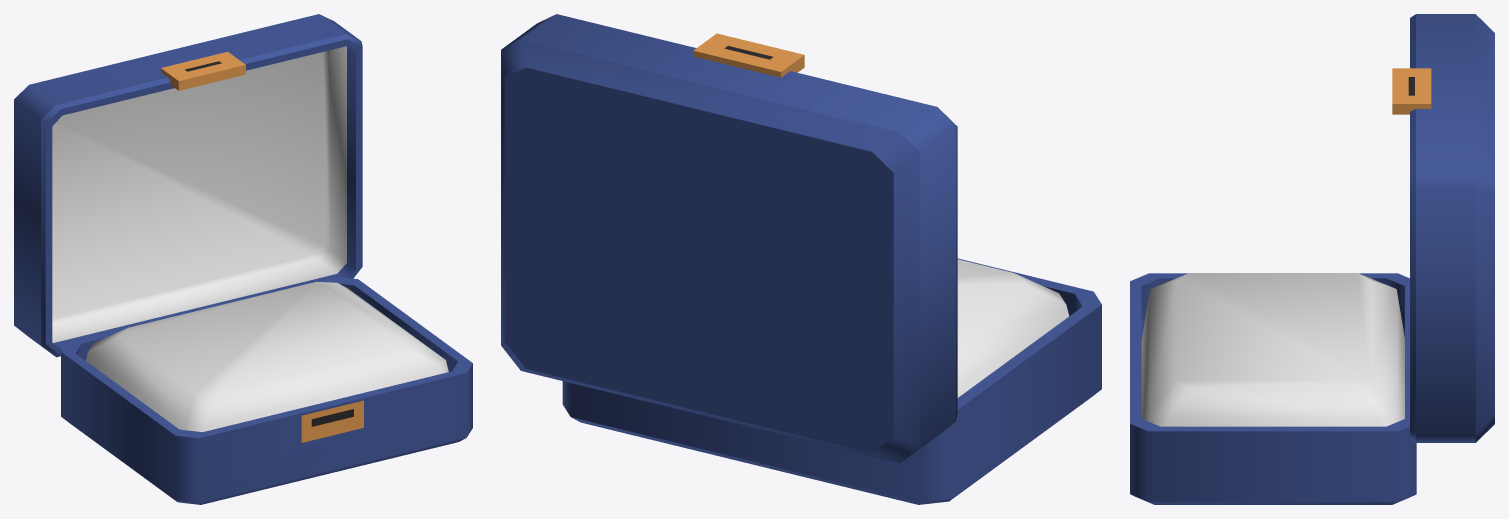
Rendered from JewelryBox_01.fbx.
3 views of the same model, side by side, from view 1: azimuth 30°, elevation 25°; view 2: azimuth 150°, elevation 25°; view 3: azimuth 270°, elevation 25° (orthographic). The views are drawn at different scales.
Visible parts, largest first — view 1: JewelryBox_01_Top, JewelryBox_01; view 2: JewelryBox_01_Top, JewelryBox_01; view 3: JewelryBox_01, JewelryBox_01_Top.
Boxes of the visible parts, x1,y1,x2,y2 form: JewelryBox_01_Top: [14, 14, 362, 357]; JewelryBox_01: [61, 276, 472, 504]; JewelryBox_01_Top: [501, 14, 957, 463]; JewelryBox_01: [562, 258, 1101, 504]; JewelryBox_01: [1130, 273, 1416, 504]; JewelryBox_01_Top: [1392, 14, 1494, 442].
Bounding box in the file's own units: 0.2335 × 0.2191 × 0.2116.
